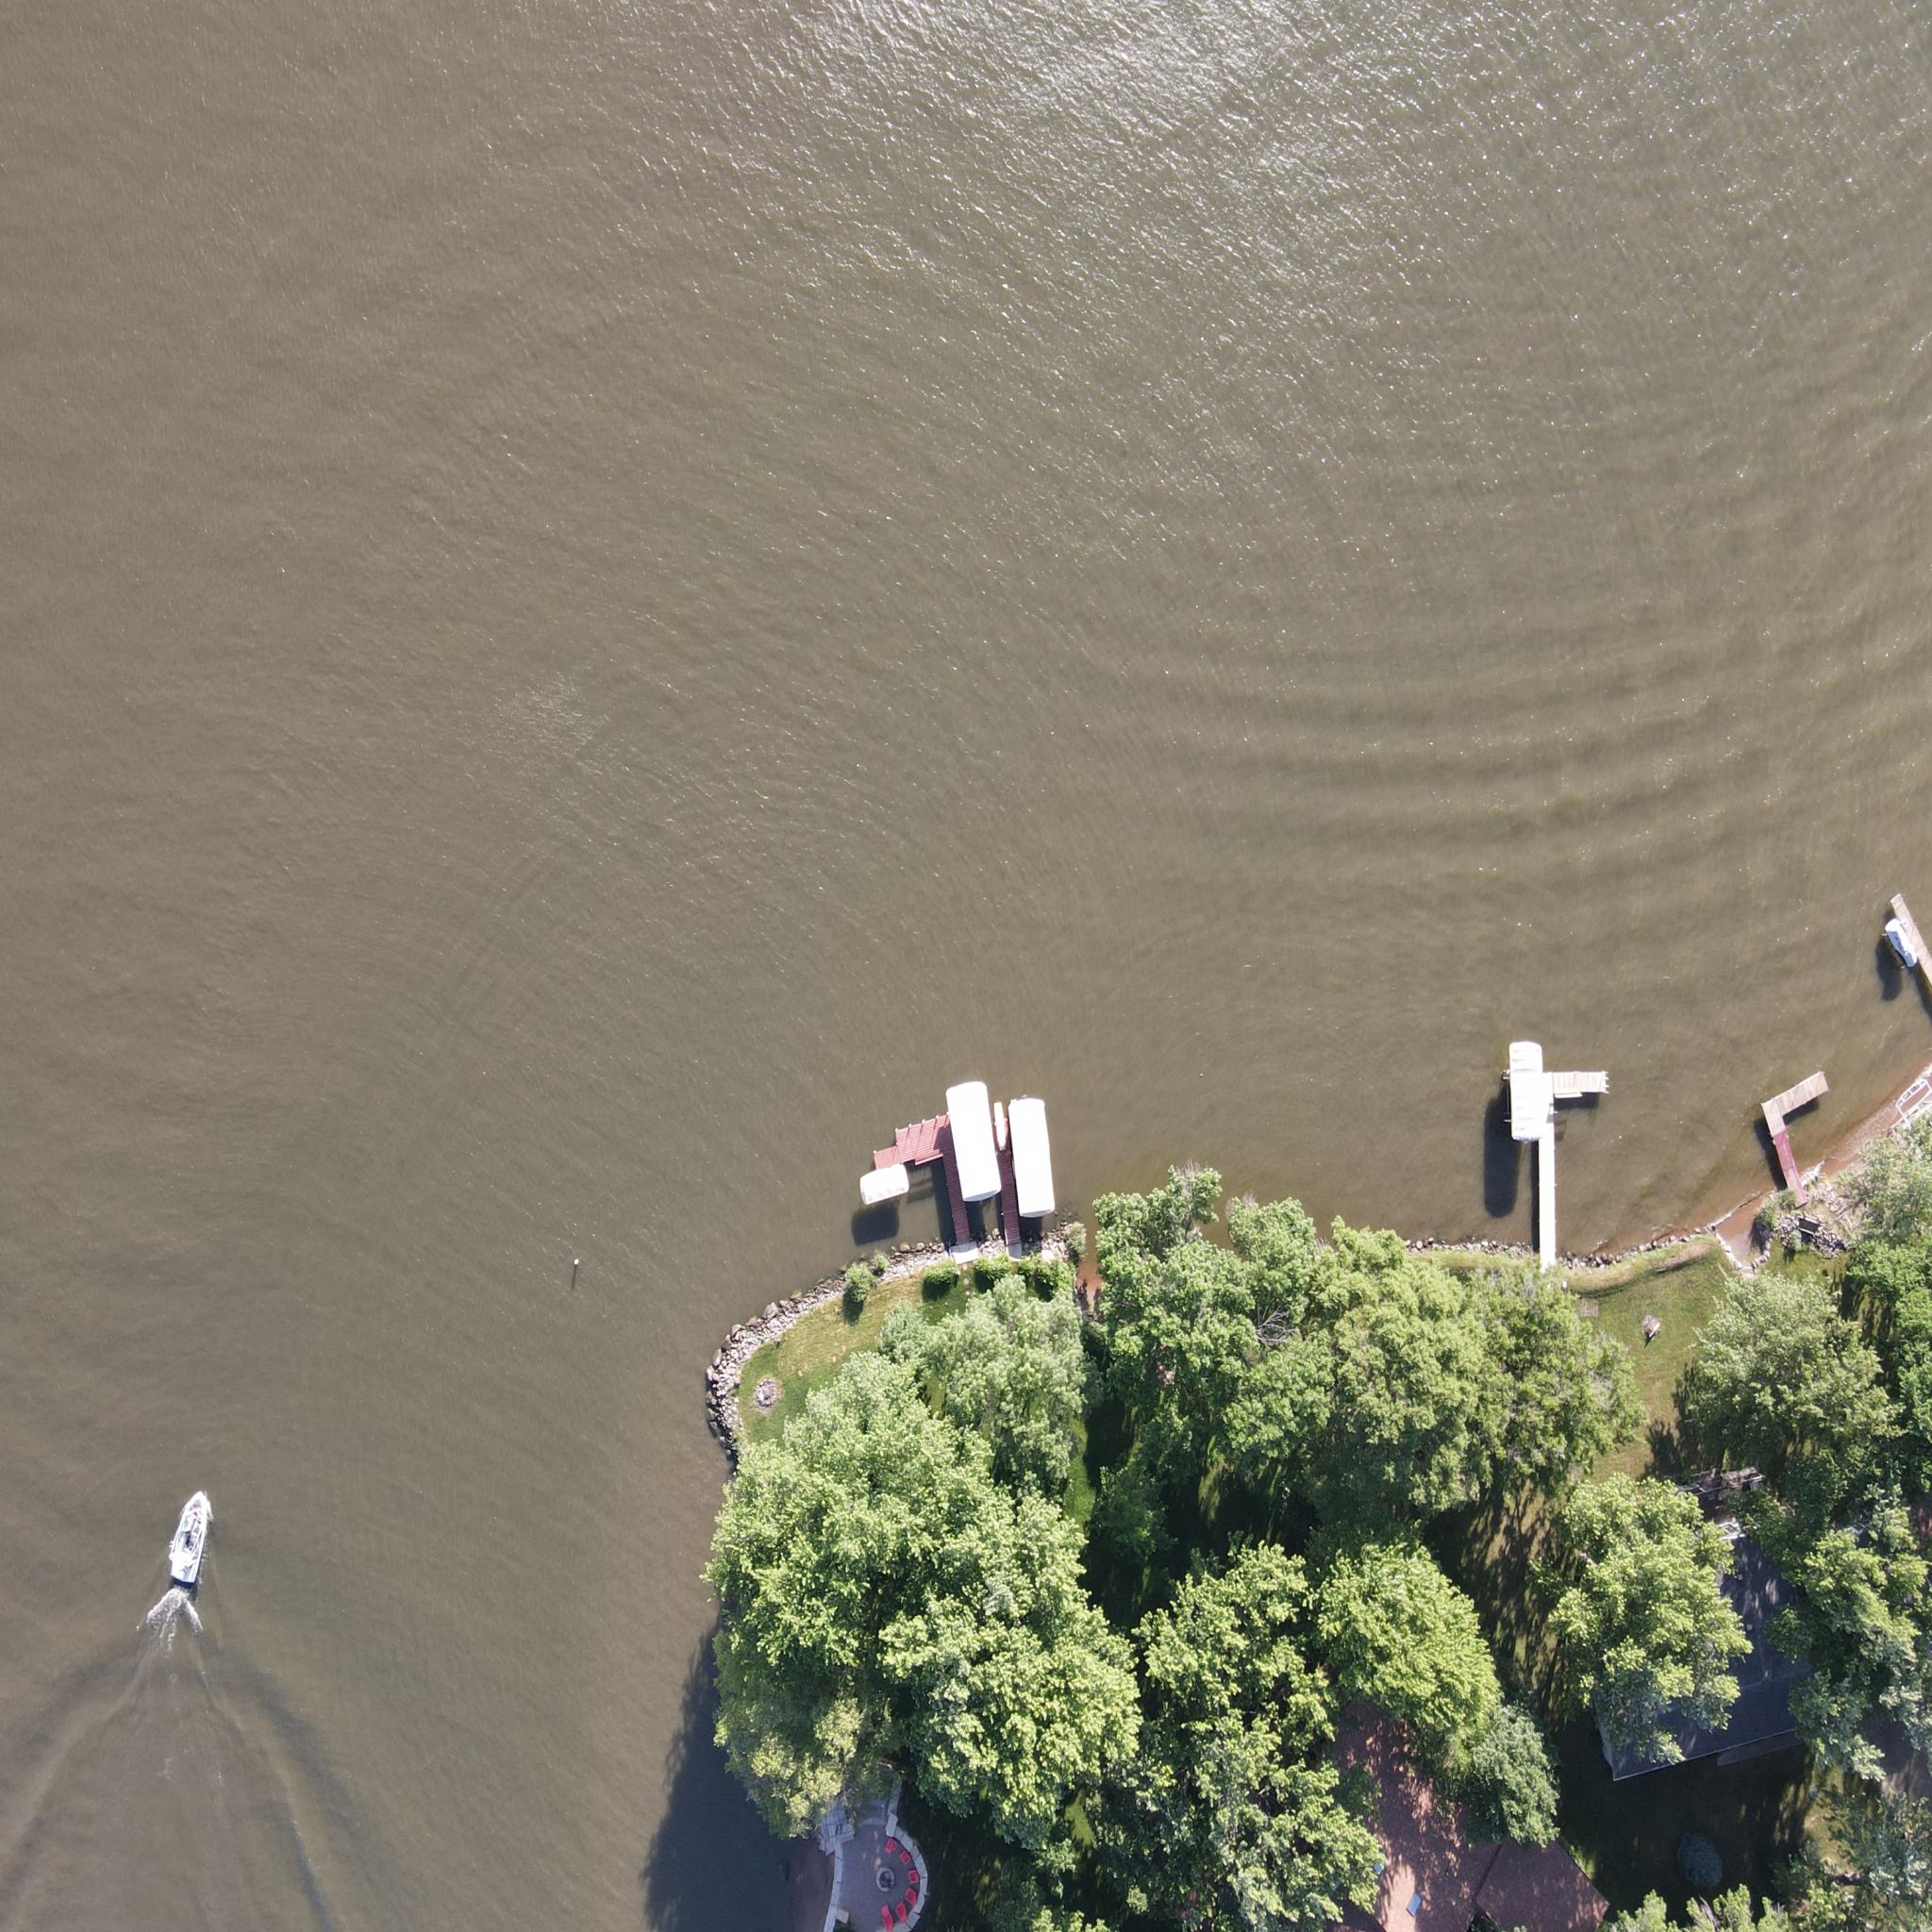boat: (163, 1483, 216, 1601)
dock: (1534, 1062, 1615, 1277), (869, 1104, 973, 1253), (1752, 1063, 1831, 1217), (1888, 886, 1932, 1044), (987, 1108, 1030, 1265)
jetski: (1881, 915, 1920, 971)
lift: (941, 1077, 1005, 1208), (1005, 1090, 1060, 1223), (1502, 1033, 1546, 1150), (1890, 1074, 1932, 1159), (855, 1161, 911, 1208)
